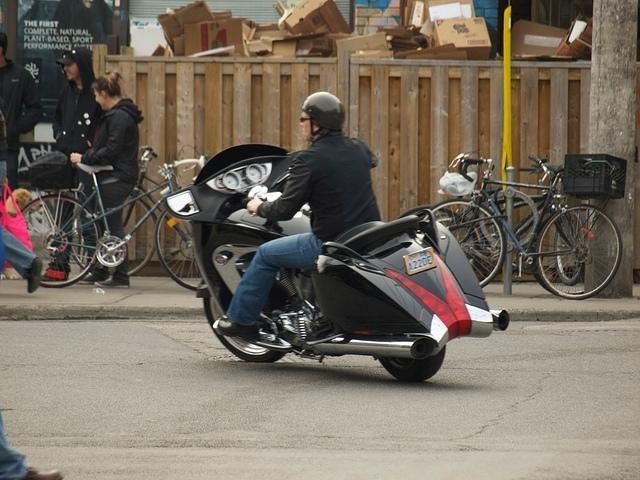bicycle: (432, 150, 622, 302), (20, 145, 206, 291), (101, 148, 158, 206), (519, 153, 555, 182)
motorcycle: (164, 142, 511, 384)
